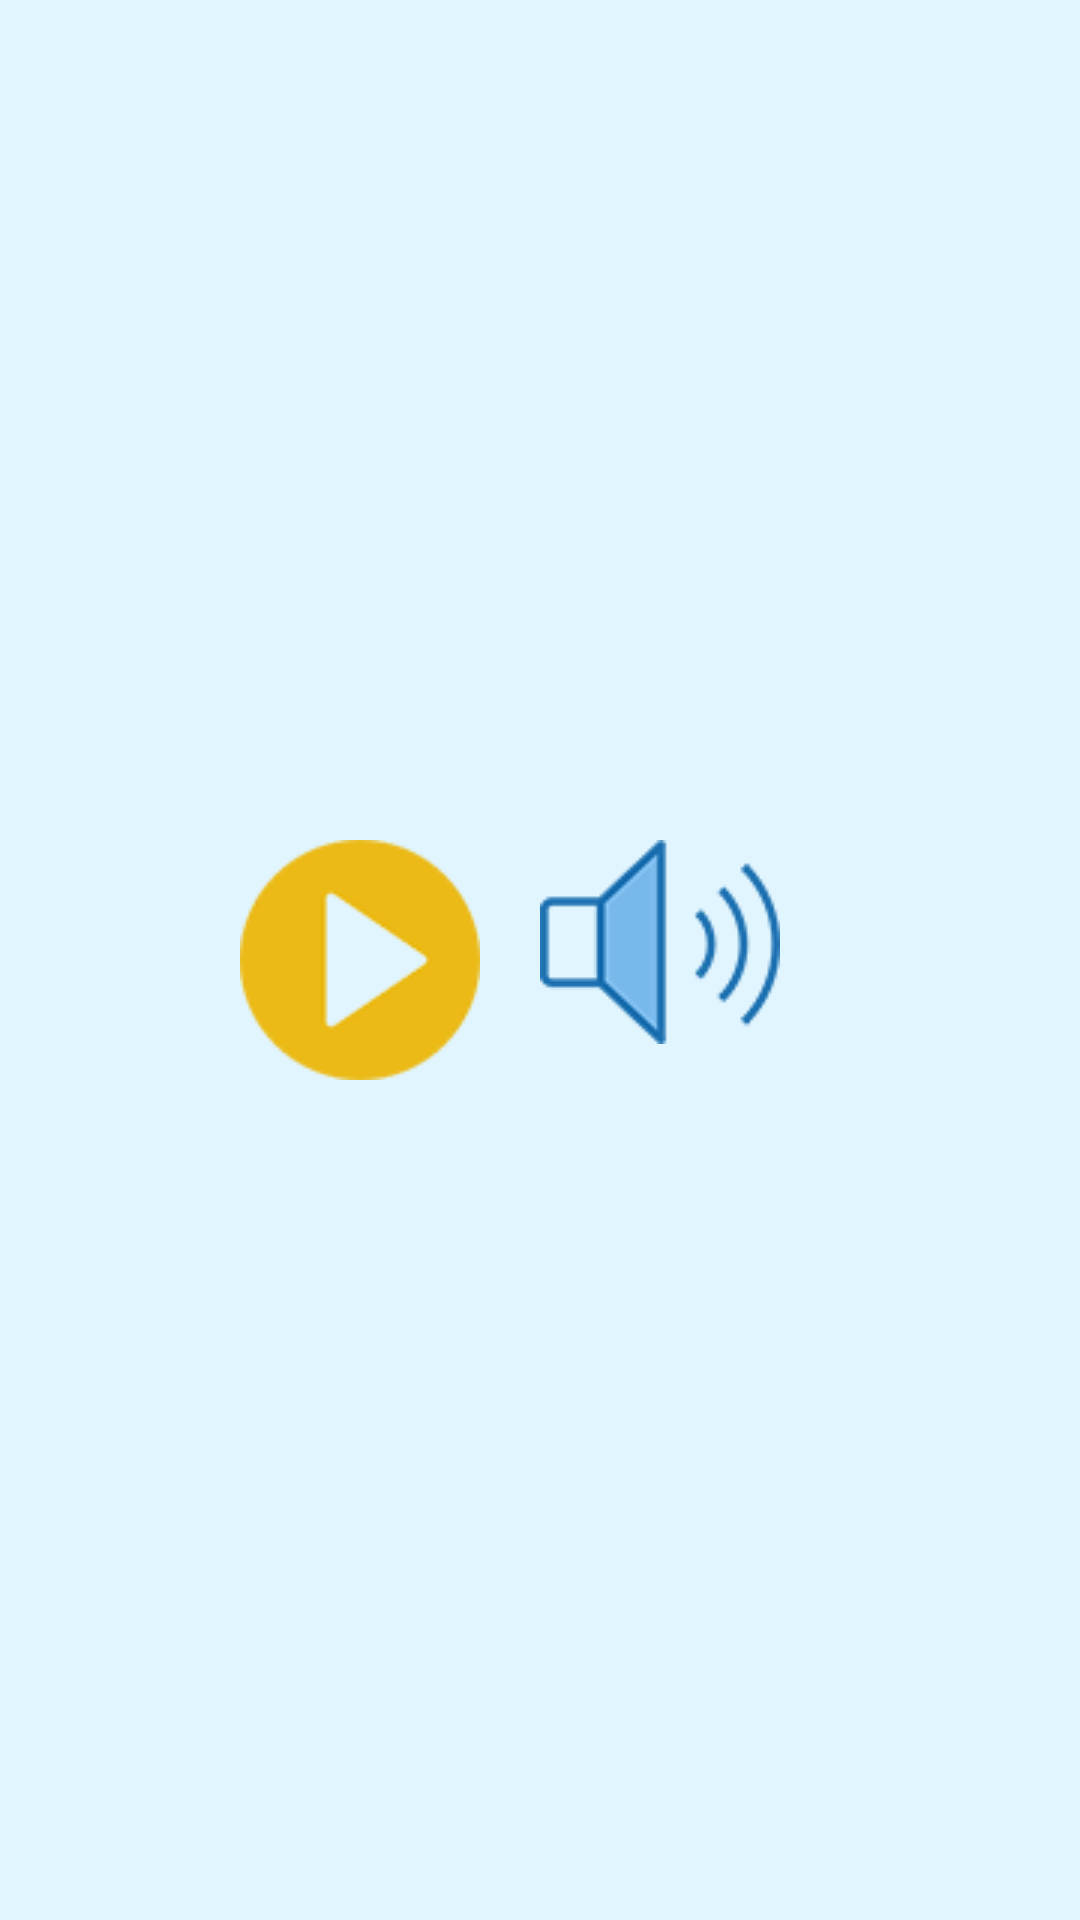

Named icons in this screenshot (1080×1920) and their centers, (x=x, y=y):
audio on: (x=660, y=942)
play: (x=360, y=960)
